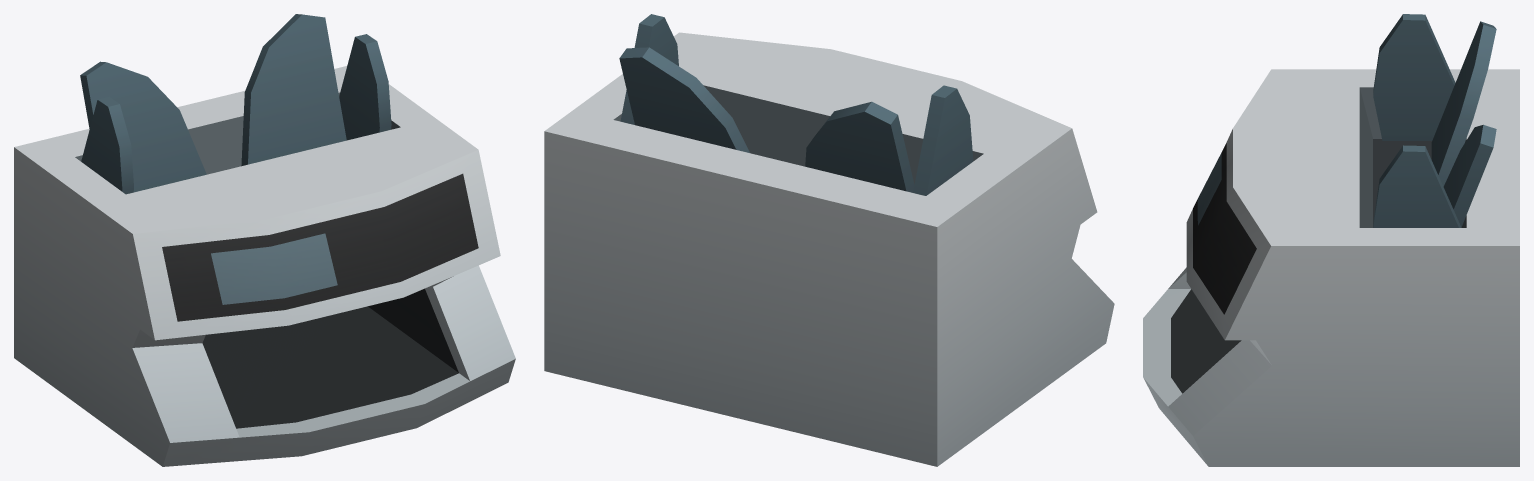
File: Cash_Machine_01.obj
The picture shows the model from 3 angles, left to right: view 1: azimuth 30°, elevation 25°; view 2: azimuth 150°, elevation 25°; view 3: azimuth 270°, elevation 25°; orthographic projection. The views are drawn at different scales.
Visible parts, largest first — view 1: Cash_Machine_01; view 2: Cash_Machine_01; view 3: Cash_Machine_01.
Boxes of the visible parts, x1,y1,x2,y2 form: Cash_Machine_01: (14,14,515,466); Cash_Machine_01: (544,14,1114,466); Cash_Machine_01: (1143,14,1519,466).
Size of the model in its own units: 0.4364 by 0.3502 by 0.3935.
Materials: 1 (1 with a texture image).
